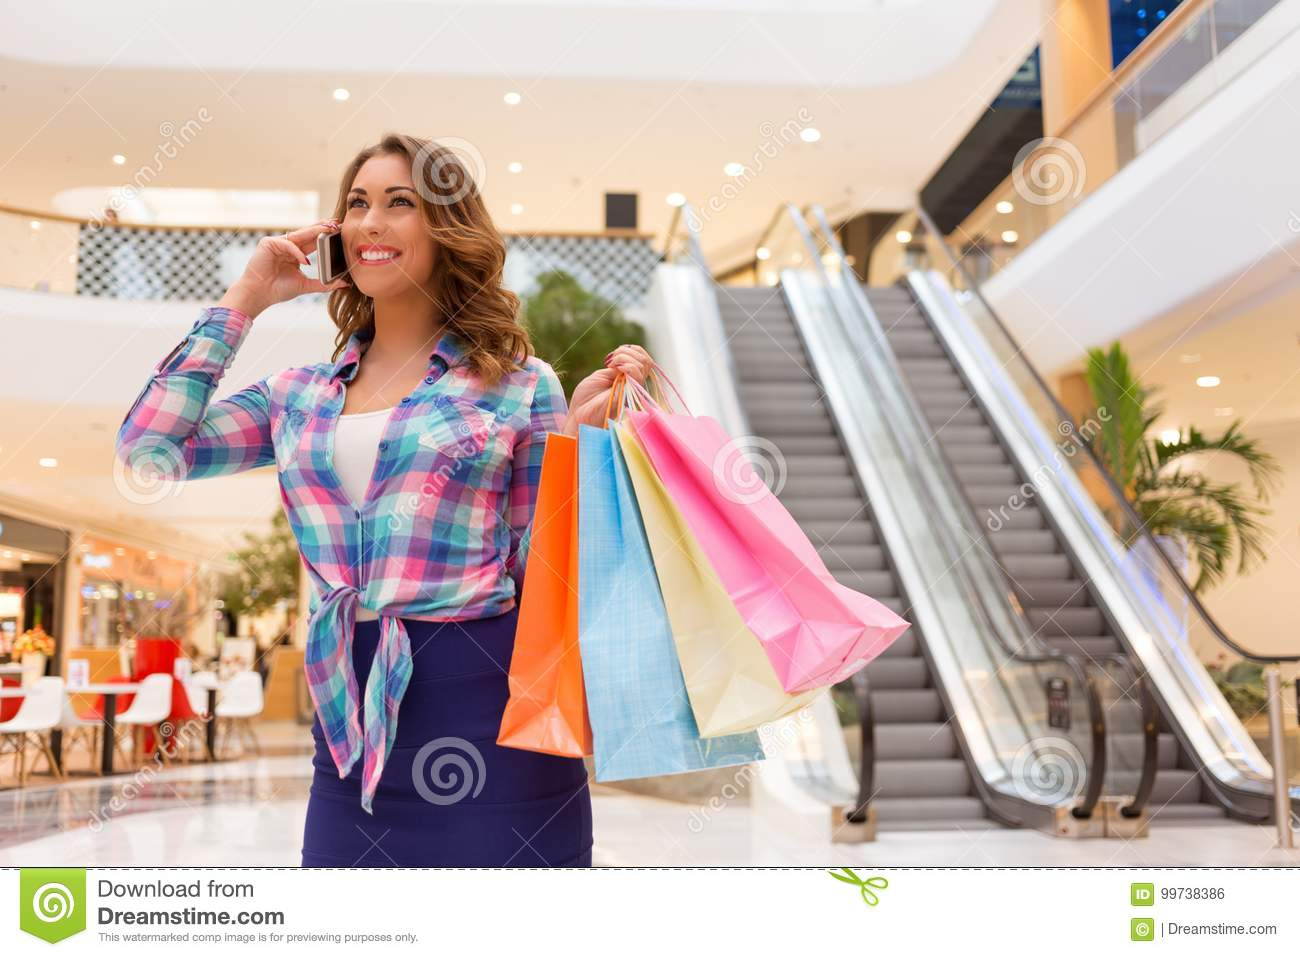phone: (315, 227, 347, 290)
talk: (242, 175, 418, 310)
